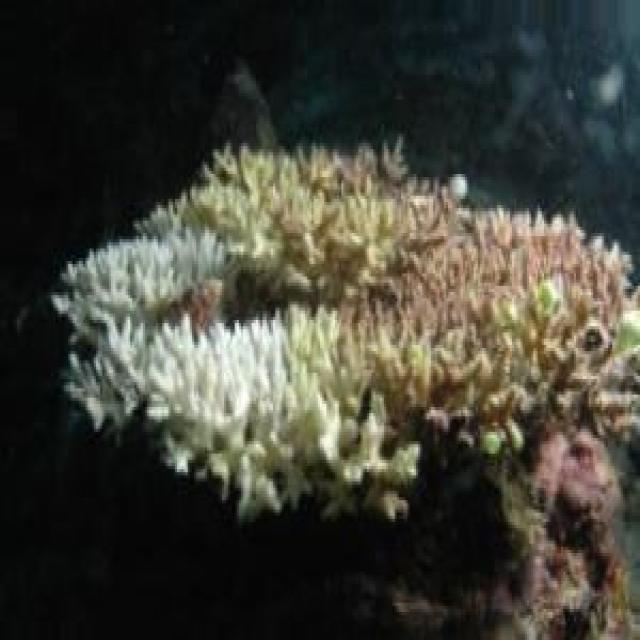bleached coral: (55, 211, 284, 498)
healthy coral: (359, 151, 625, 425)
